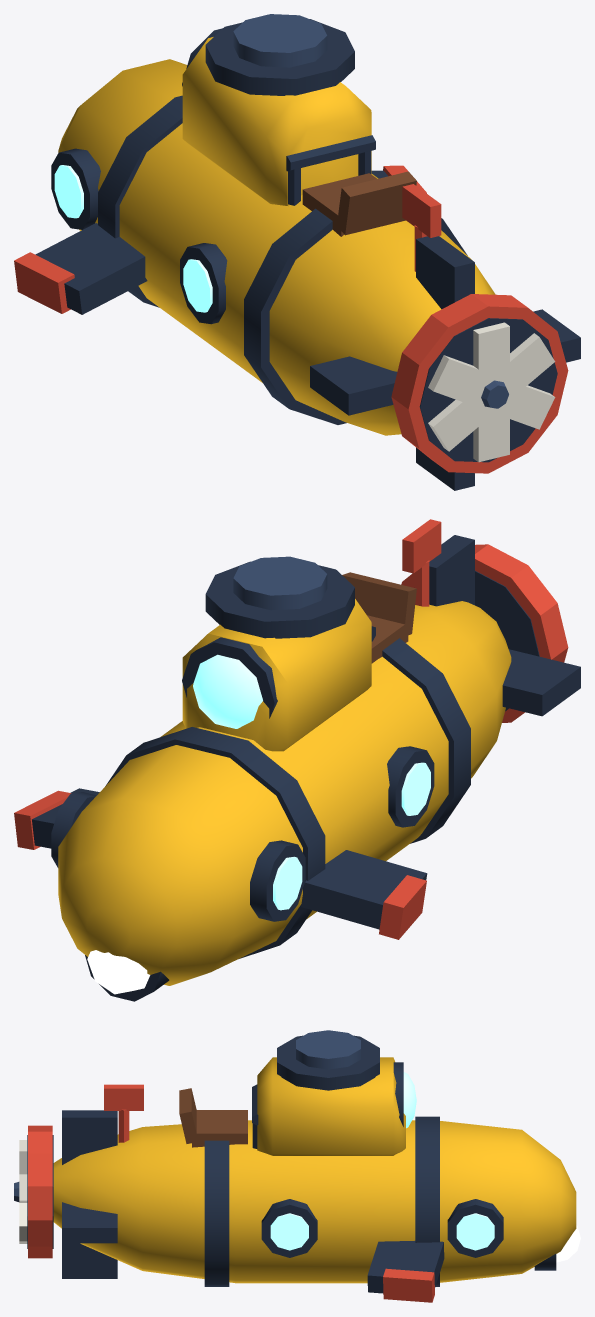
The picture shows the model from 3 angles, top to bottom: view 1: azimuth 30°, elevation 25°; view 2: azimuth 150°, elevation 25°; view 3: azimuth 270°, elevation 25°; orthographic projection. The views are drawn at different scales.
Parts seen in each view (by area): view 1: Hull, Tower, Fins, Prop, Wings, Ports, Seat, Bar, Key; view 2: Hull, Tower, Fins, Wings, Ports, Window, Seat, Key, Light; view 3: Hull, Tower, Fins, Ports, Wings, Seat, Key, Prop, Window, Light, Bar.
Boxes of the visible parts, left/top/right/bottom form: Hull: left=58, top=59, right=495, bottom=435; Tower: left=182, top=14, right=371, bottom=205; Fins: left=310, top=236, right=580, bottom=490; Prop: left=428, top=322, right=555, bottom=462; Wings: left=14, top=165, right=426, bottom=314; Ports: left=51, top=148, right=227, bottom=324; Seat: left=302, top=171, right=416, bottom=236; Bar: left=286, top=135, right=375, bottom=205; Key: left=402, top=184, right=441, bottom=271; Hull: left=58, top=601, right=511, bottom=1001; Tower: left=182, top=556, right=371, bottom=751; Fins: left=401, top=535, right=580, bottom=722; Wings: left=14, top=788, right=427, bottom=939; Ports: left=51, top=746, right=434, bottom=921; Window: left=193, top=654, right=262, bottom=728; Seat: left=342, top=572, right=416, bottom=663; Key: left=402, top=519, right=441, bottom=606; Light: left=87, top=950, right=150, bottom=994; Hull: left=53, top=1116, right=576, bottom=1286; Tower: left=257, top=1030, right=405, bottom=1155; Fins: left=27, top=1110, right=117, bottom=1278; Ports: left=261, top=1199, right=503, bottom=1257; Wings: left=367, top=1241, right=444, bottom=1302; Seat: left=179, top=1088, right=247, bottom=1147; Key: left=104, top=1084, right=143, bottom=1142; Prop: left=14, top=1140, right=27, bottom=1243; Window: left=403, top=1072, right=416, bottom=1128; Light: left=556, top=1225, right=580, bottom=1262; Bar: left=252, top=1084, right=258, bottom=1148.
Bounding box in the file's own units: 20.96 × 16.56 × 36.6.
